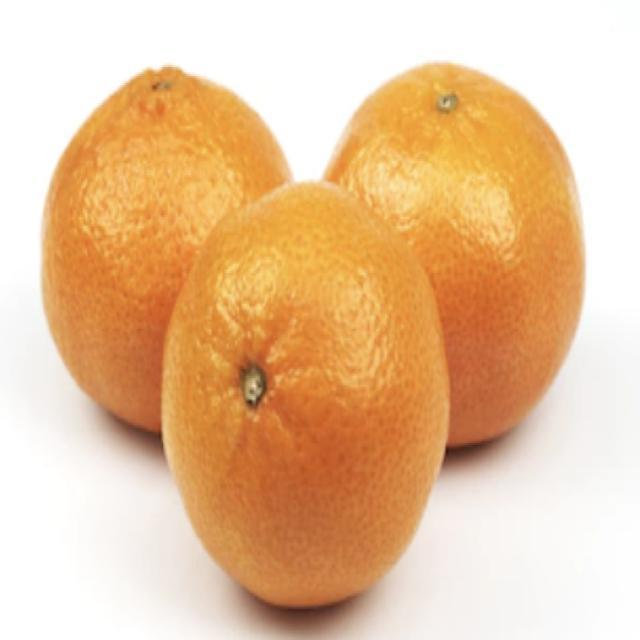Orange: (159, 179, 451, 610), (321, 60, 586, 450), (40, 63, 293, 435)
